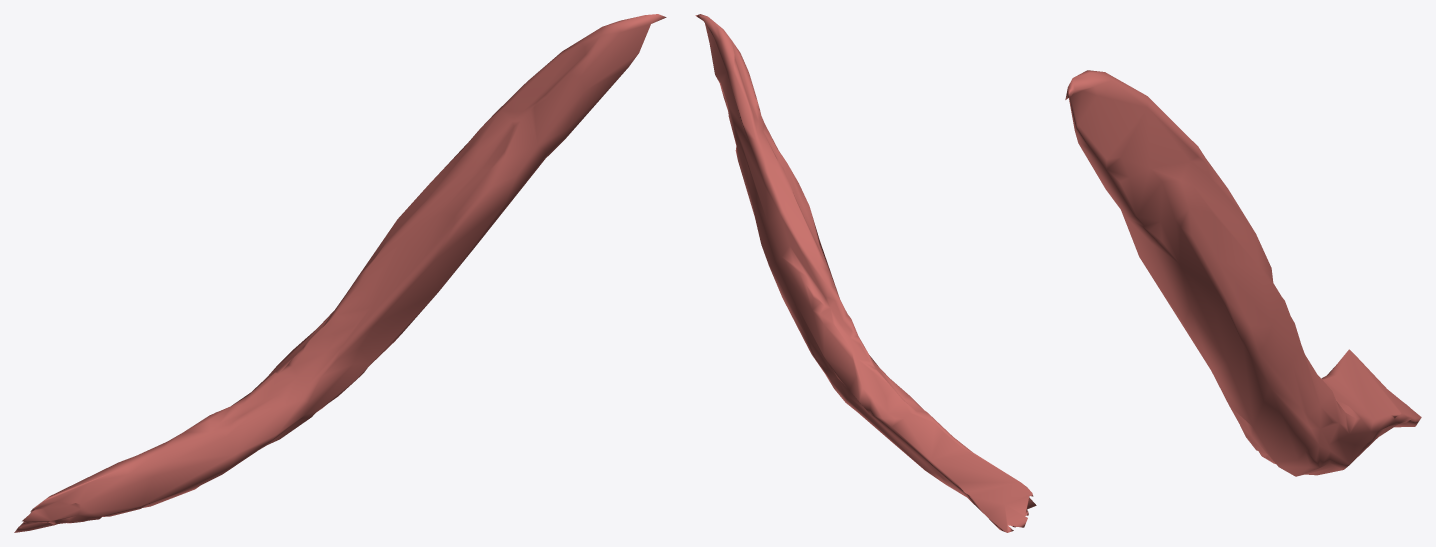
3 views of the same model, side by side, from view 1: azimuth 30°, elevation 25°; view 2: azimuth 150°, elevation 25°; view 3: azimuth 270°, elevation 25° (orthographic). The views are drawn at different scales.
Visible parts, largest first — view 1: 左侧锁骨下肌; view 2: 左侧锁骨下肌; view 3: 左侧锁骨下肌.
Part boxes in pixels (bbox=[...]): 左侧锁骨下肌: bbox=[14, 14, 666, 532]; 左侧锁骨下肌: bbox=[695, 14, 1036, 532]; 左侧锁骨下肌: bbox=[1065, 70, 1421, 476].
Size of the model in its own units: 0.11 by 0.0907 by 0.0409.
